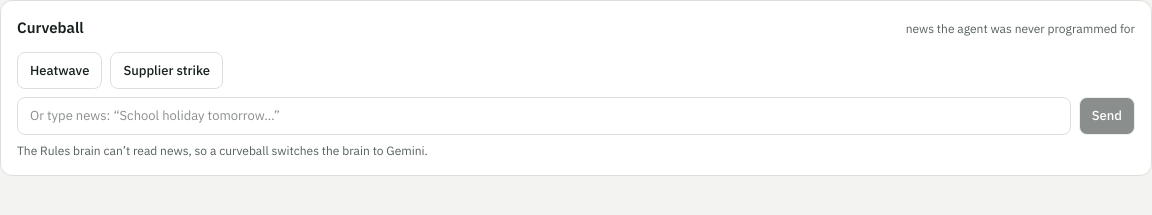
Test case: CurveballPanel › shows the server error inline and the rules hint
This screenshot has width=1152, height=215.
What coordinates should you click on to do the following:
click the button "Supplier strike"
I would click on:
 (167, 70)
Its box is [110,52,223,89].
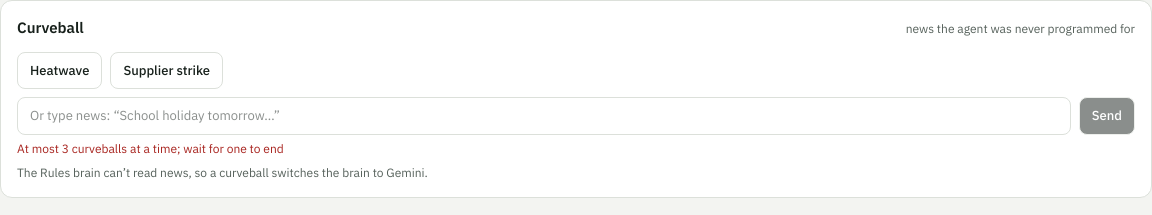
Expected: the text "switches the brain to Gemini" is shown, [17,164,428,180]
Now the message shows "At most 3 curveballs", box [17,140,284,156]
